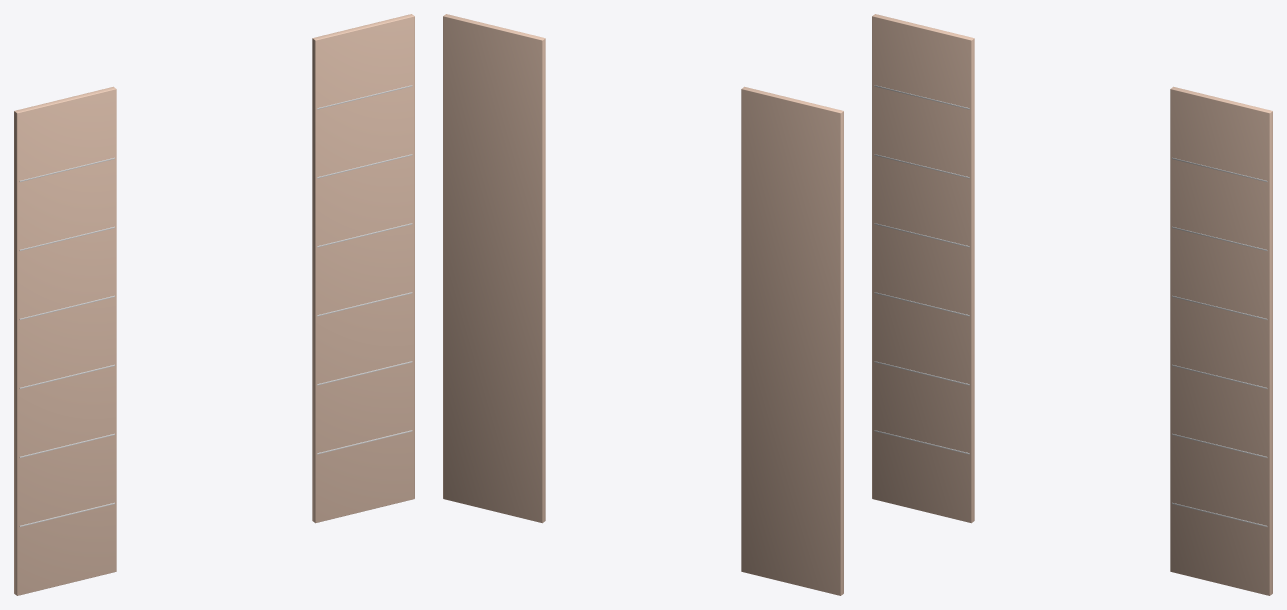
File: landing_door_TM025.glb
The picture shows the model from 3 angles, left to right: view 1: azimuth 30°, elevation 25°; view 2: azimuth 150°, elevation 25°; view 3: azimuth 330°, elevation 25°; orthographic projection.
Parts seen in each view (by area): view 1: Landing_Door_L, Landing_Door_R; view 2: Landing_Door_L, Landing_Door_R; view 3: Landing_Door_L, Landing_Door_R.
Boxes of the visible parts, x1=… form: Landing_Door_L: x1=14, y1=86, x2=116, y2=595; Landing_Door_R: x1=312, y1=14, x2=414, y2=523; Landing_Door_L: x1=741, y1=86, x2=843, y2=595; Landing_Door_R: x1=443, y1=14, x2=545, y2=523; Landing_Door_L: x1=872, y1=14, x2=974, y2=523; Landing_Door_R: x1=1170, y1=86, x2=1272, y2=595.
Bounding box in the file's own units: 1.81 × 2.1 × 0.0258.
